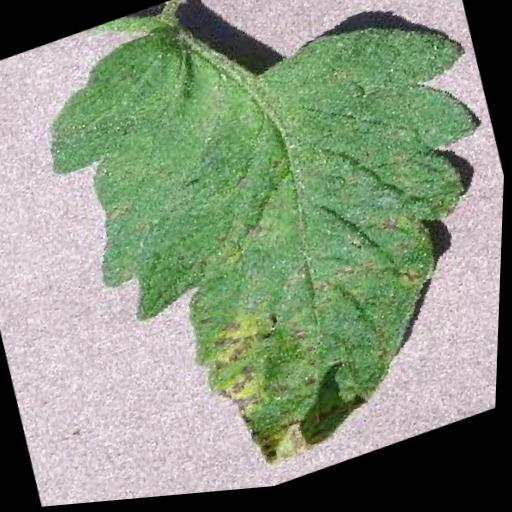Septoria: (4, 0, 512, 511)
